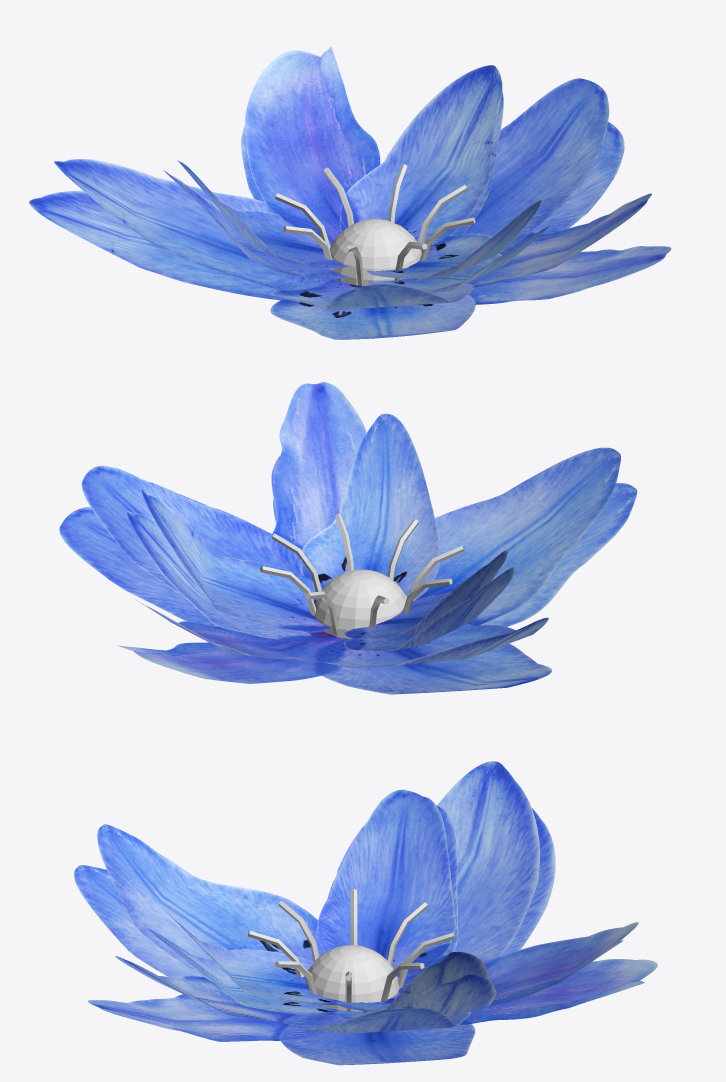
Rendered from B_Fleur.FBX.
The picture shows the model from 3 angles, top to bottom: view 1: azimuth 30°, elevation 25°; view 2: azimuth 150°, elevation 25°; view 3: azimuth 270°, elevation 25°; orthographic projection.
Visible parts, largest first — view 1: B_Petals02, B_Petals, B_Petals02_back, B_Petals01_back, B_Fleur, B_Pistil; view 2: B_Petals02, B_Petals, B_Petals02_back, B_Petals01_back, B_Fleur, B_Pistil; view 3: B_Petals02, B_Petals, B_Petals02_back, B_Petals01_back, B_Fleur, B_Pistil.
Boxes of the visible parts, x1,y1,x2,y2 form: B_Petals02: (54, 46, 651, 310); B_Petals: (177, 65, 541, 279); B_Petals02_back: (29, 121, 671, 339); B_Petals01_back: (163, 91, 549, 292); B_Fleur: (329, 219, 421, 285); B_Pistil: (275, 164, 475, 285); B_Petals02: (81, 382, 620, 667); B_Petals: (141, 413, 507, 638); B_Petals02_back: (59, 483, 637, 694); B_Petals01_back: (126, 461, 514, 651); B_Fleur: (314, 569, 406, 638); B_Pistil: (260, 514, 464, 633); B_Petals02: (97, 761, 638, 1033); B_Petals: (163, 789, 488, 1012); B_Petals02_back: (74, 808, 657, 1065); B_Petals01_back: (148, 805, 496, 1019); B_Fleur: (305, 945, 399, 1011); B_Pistil: (248, 889, 454, 1011).
Bounding box in the file's own units: 61.16 × 16.34 × 61.15.
